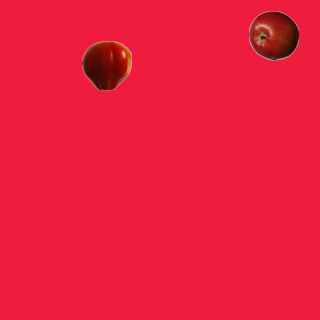Apple Braeburn: (248, 10, 298, 60)
Tomato 1: (81, 40, 131, 90)
